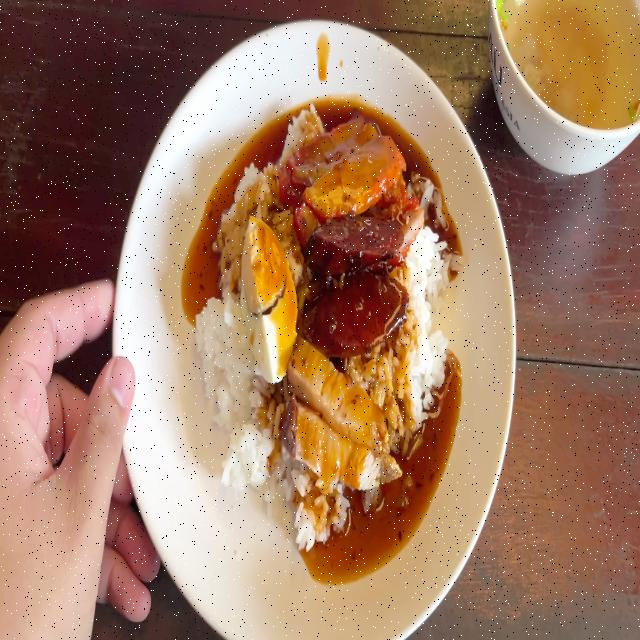boiled_egg: (237, 216, 300, 387)
chainese_sausage: (308, 276, 406, 345), (314, 223, 400, 256)
crispy_pork: (301, 347, 383, 441), (287, 406, 395, 475)
red_pork: (282, 115, 403, 215)
red_pork_and_crispy_pork: (193, 112, 447, 540)
rice: (196, 215, 248, 506), (412, 238, 457, 422), (221, 398, 287, 484), (284, 484, 344, 550), (285, 105, 322, 150), (240, 161, 273, 204)
